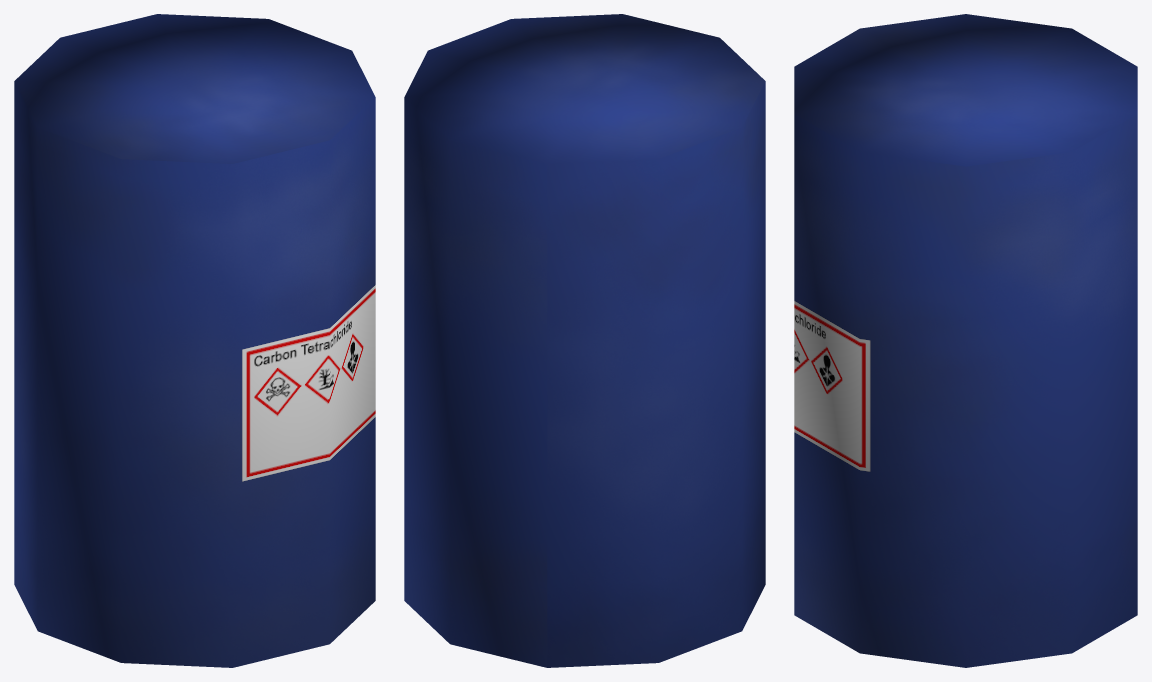
File: carbonTetrachloride_L.fbx
3 renders of one model, left to right at view 1: azimuth 30°, elevation 25°; view 2: azimuth 150°, elevation 25°; view 3: azimuth 270°, elevation 25°, orthographic.
Parts seen in each view (by area): view 1: carbonTetrachloride_L; view 2: carbonTetrachloride_L; view 3: carbonTetrachloride_L.
Part boxes in pixels (x1,y1,x2,y2): carbonTetrachloride_L: (14,14,375,667); carbonTetrachloride_L: (404,14,765,667); carbonTetrachloride_L: (794,14,1137,667).
Bounding box in the file's own units: 0.3862 × 0.5914 × 0.3673.
1 material, 1 textured.
